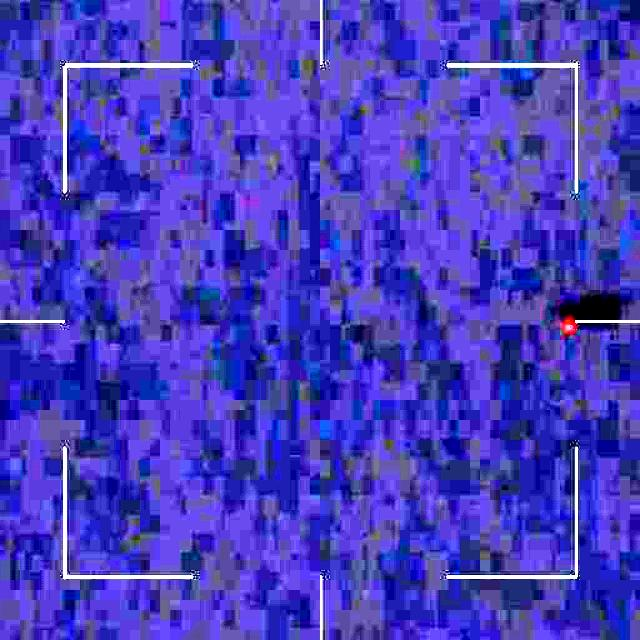bird: (530, 291, 571, 349)
